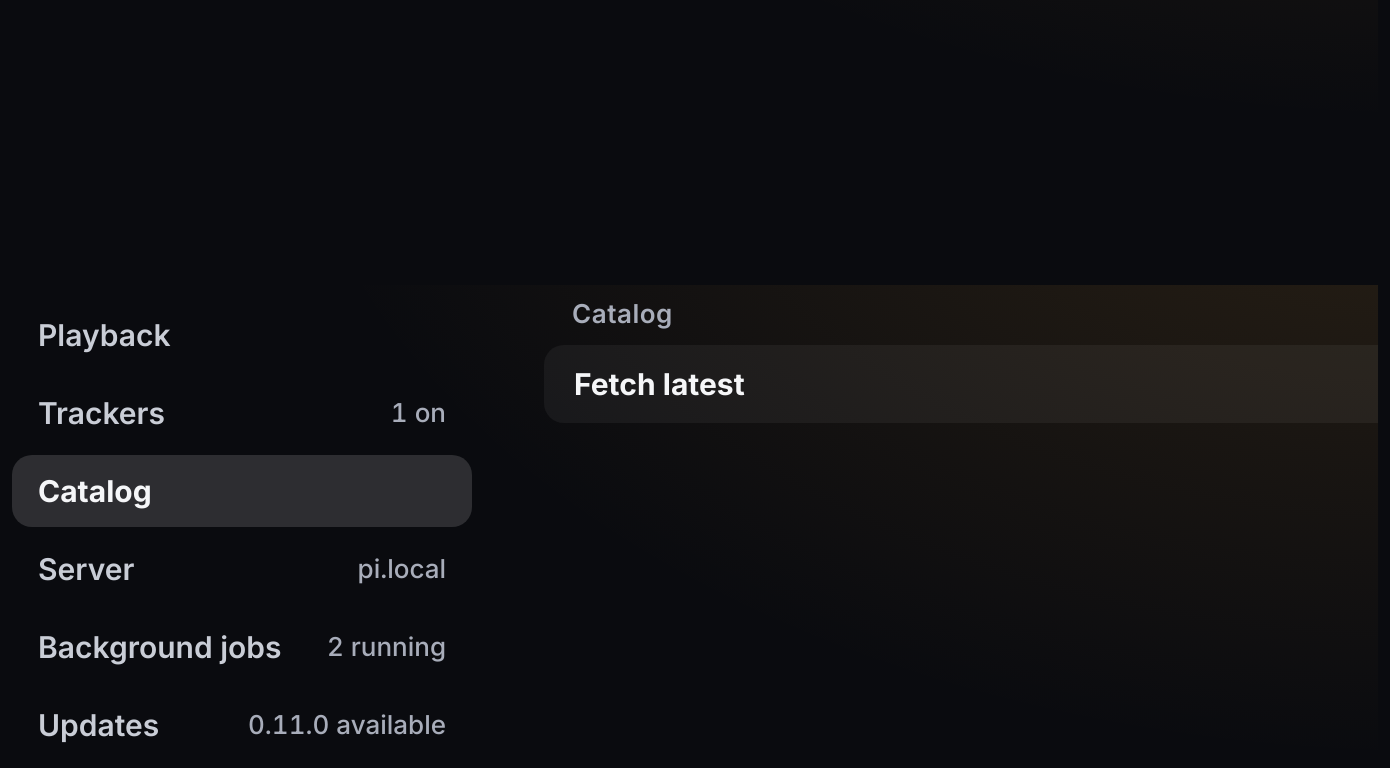
Test: TV Settings in two panes › still offers Fetch latest when the coverage request fails, and a failed sync is one sentence
The image size is (1390, 768).
(page scrolled)
Click the button "Fetch latest".
click(659, 384)  # box [544,345,1378,423]
(page scrolled)
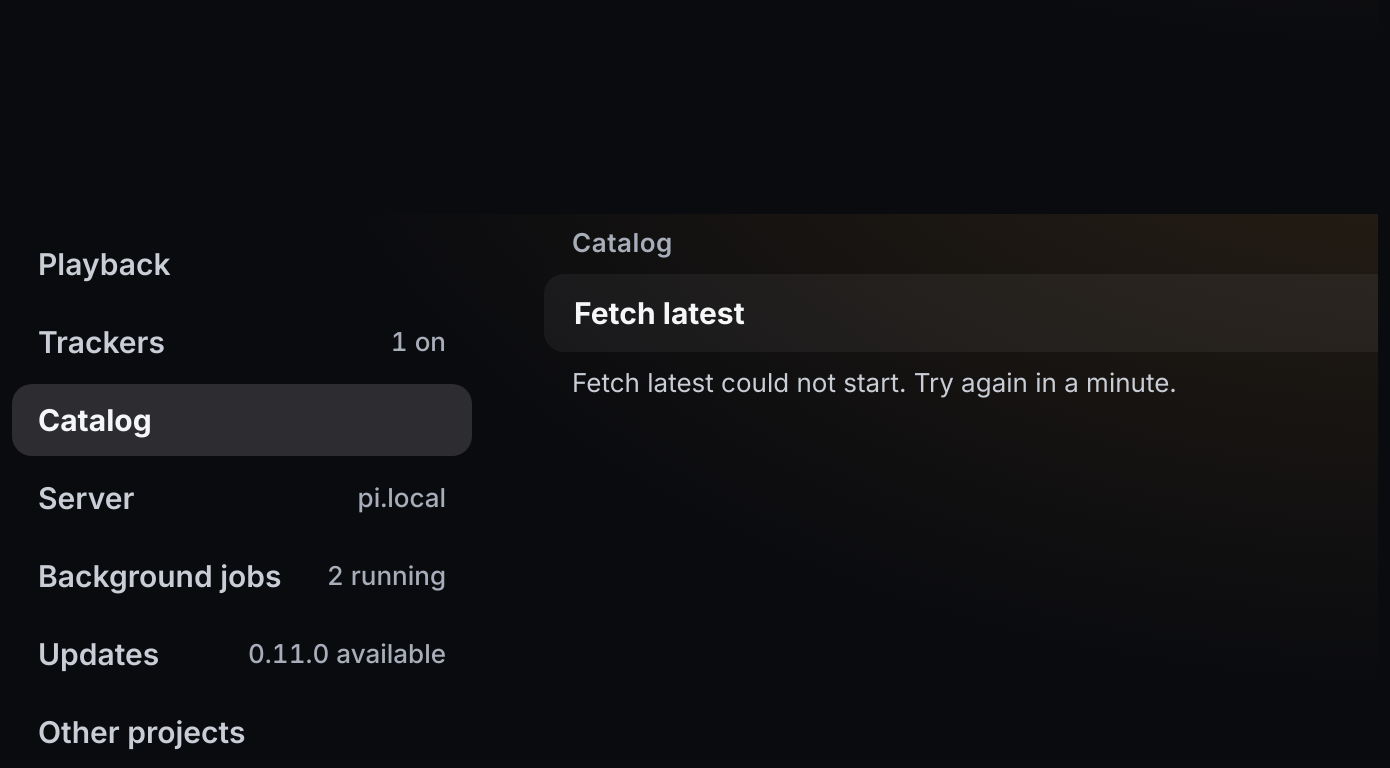
Check: the message "Fetch latest could not start. Try again in a minute." is shown, box [572,367,1177,398]
